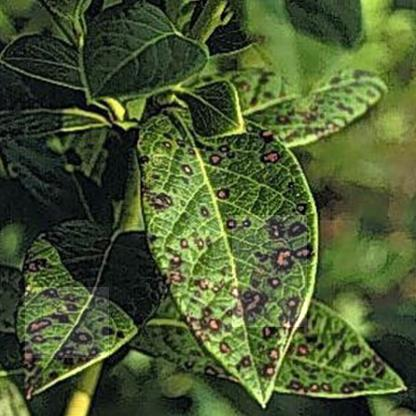black-spot: (232, 215, 307, 327), (148, 154, 226, 246), (25, 287, 109, 358)
